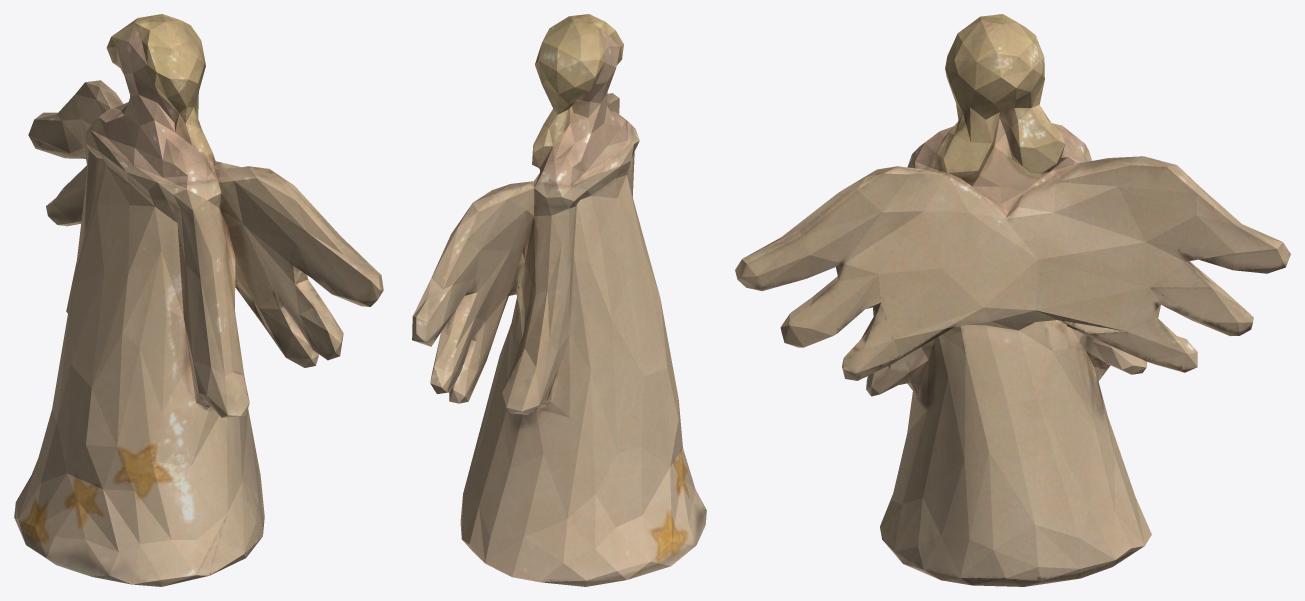
The model's file is A4590F64-2069-A649-B305-ECC4D433FB87_512.glb.
The picture shows the model from 3 angles, left to right: view 1: azimuth 30°, elevation 25°; view 2: azimuth 150°, elevation 25°; view 3: azimuth 270°, elevation 25°; orthographic projection. The views are drawn at different scales.
Visible parts, largest first — view 1: Engel_1k_0.5k; view 2: Engel_1k_0.5k; view 3: Engel_1k_0.5k.
Boxes of the visible parts, x1=… form: Engel_1k_0.5k: x1=14, y1=14, x2=383, y2=586; Engel_1k_0.5k: x1=412, y1=14, x2=706, y2=586; Engel_1k_0.5k: x1=735, y1=14, x2=1290, y2=586.
Size of the model in its own units: 0.0818 by 0.1901 by 0.182.
1 material, 1 textured.
